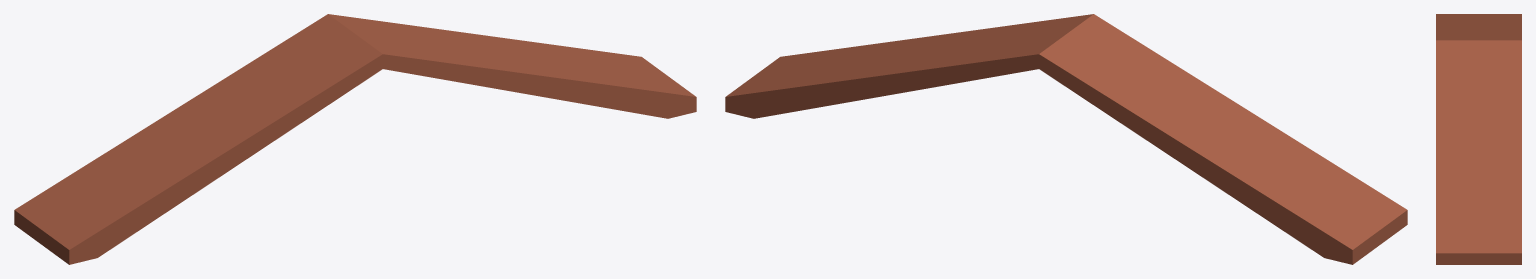
The model's file is res_roof.glb.
3 views of the same model, side by side, from view 1: azimuth 30°, elevation 25°; view 2: azimuth 150°, elevation 25°; view 3: azimuth 270°, elevation 25° (orthographic). The views are drawn at different scales.
Parts seen in each view (by area): view 1: res_roof; view 2: res_roof; view 3: res_roof.
Boxes of the visible parts, x1,y1,x2,y2 form: res_roof: (14, 14, 696, 264); res_roof: (725, 14, 1407, 264); res_roof: (1436, 14, 1521, 264).
Bounding box in the file's own units: 6.6 × 1.35 × 1.
